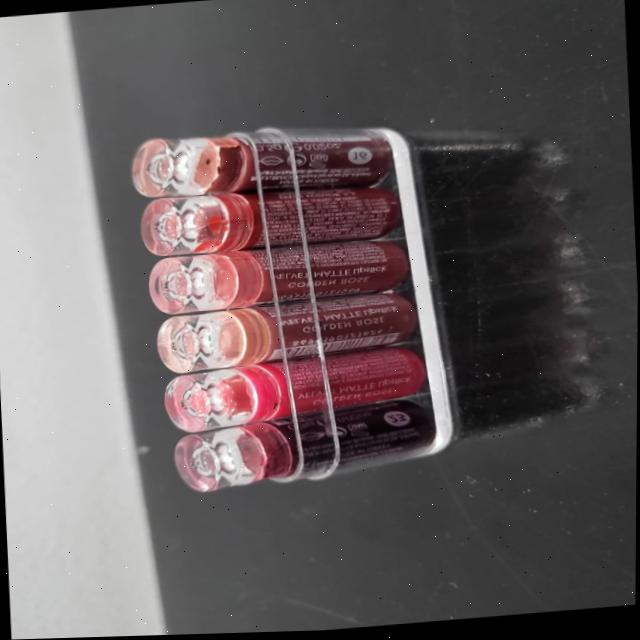lip stick: (128, 171, 417, 261), (119, 114, 399, 206), (140, 232, 418, 318), (171, 411, 440, 497), (153, 354, 427, 437), (143, 296, 416, 379)
